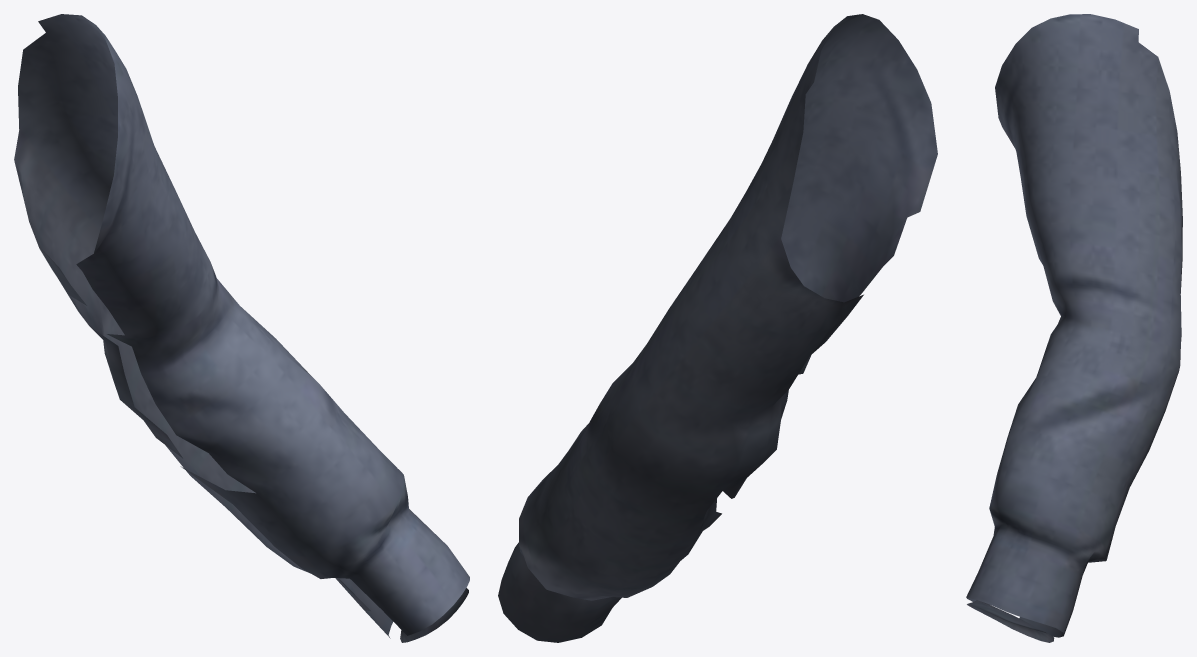
File: profesor_brazoizq.glb
3 renders of one model, left to right at view 1: azimuth 30°, elevation 25°; view 2: azimuth 150°, elevation 25°; view 3: azimuth 270°, elevation 25°, orthographic. The views are drawn at different scales.
Parts seen in each view (by area): view 1: Object_31.002; view 2: Object_31.002; view 3: Object_31.002.
Boxes of the visible parts, x1,y1,x2,y2 form: Object_31.002: (14,14,469,642); Object_31.002: (498,14,937,642); Object_31.002: (966,14,1182,642).
Size of the model in its own units: 0.0801 by 0.1346 by 0.0512.
Materials: 1 (1 with a texture image).
